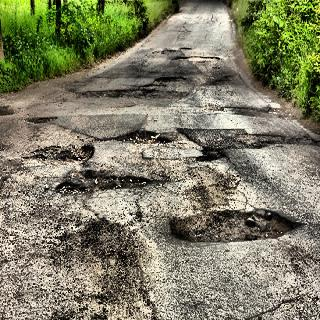pothole: (172, 196, 302, 252), (86, 71, 187, 106), (57, 166, 153, 200), (24, 140, 92, 166), (116, 126, 168, 149), (24, 113, 56, 128), (0, 103, 18, 116)
